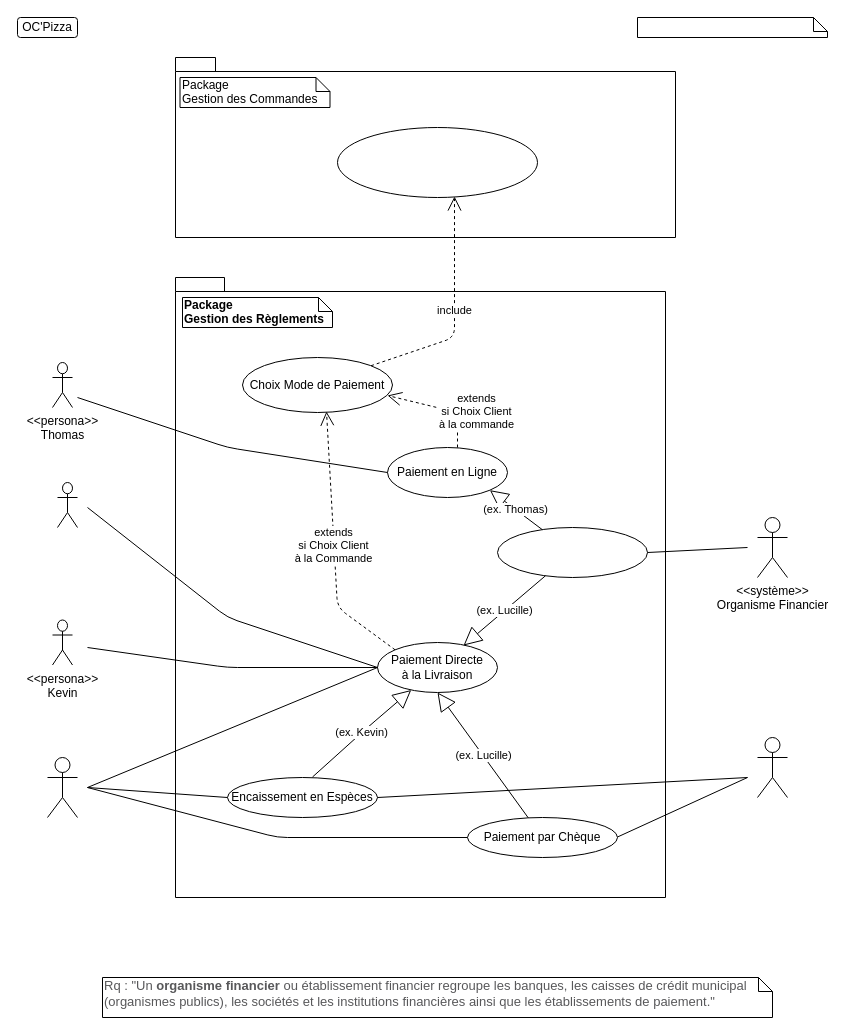
Image size: 845x1035. Some labels were removed from this diagram. The shapes that lost their labels are listed below. From the top down, each one's centre as x and y in pixels, then its label:
At pixel 732 27: "Diagramme de Cas d'Utilisation".
At pixel 437 162: "Validation Commande".
At pixel 67 505: "<<persona>> Lucille".
At pixel 572 552: "Paiement Electronique (ex. par CB)".
At pixel 62 787: "Livreur".
At pixel 772 767: "<<système>> Caisse".
